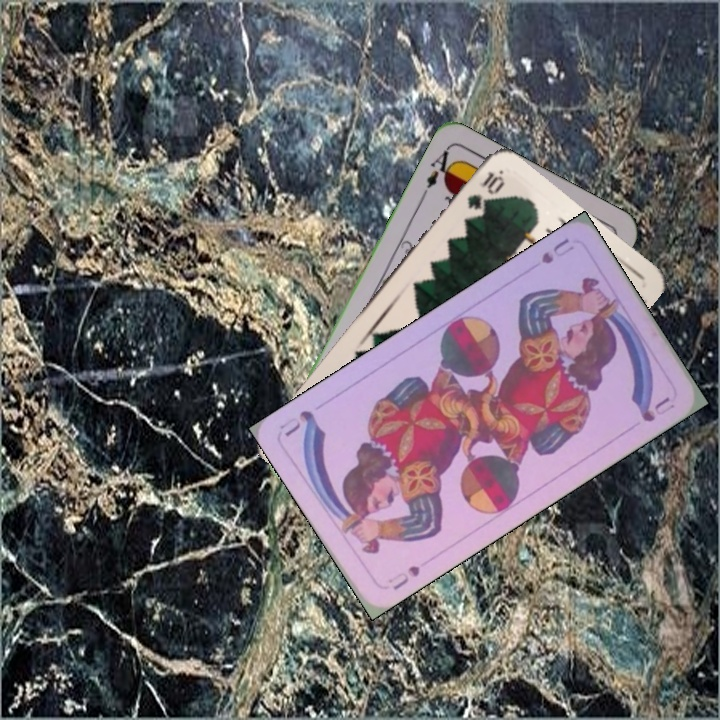EA: (418, 144, 459, 199)
G10: (463, 167, 507, 213)
SU: (537, 234, 577, 267), (384, 561, 423, 593)
